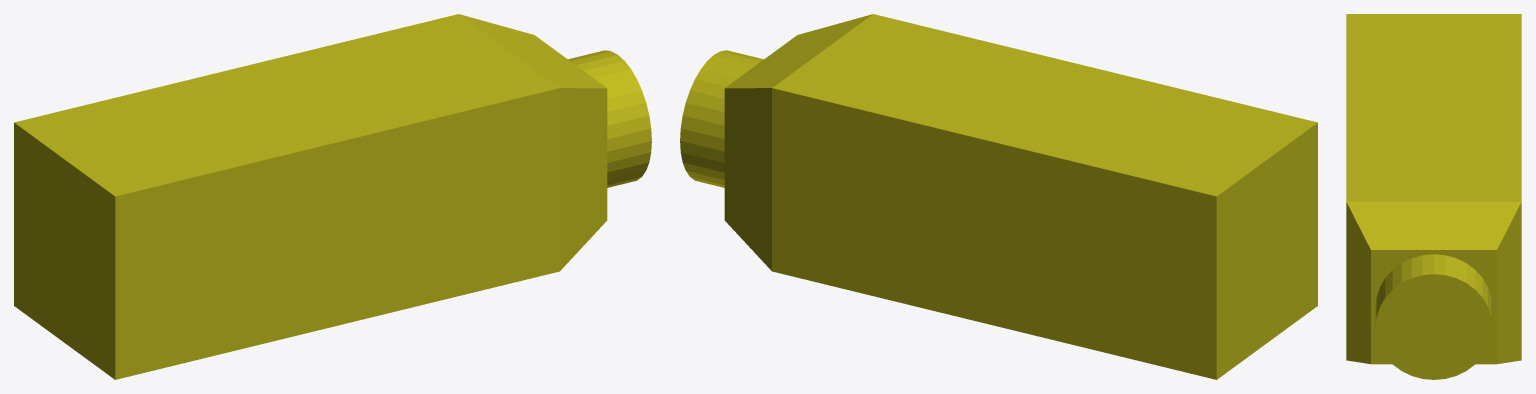
3 renders of one model, left to right at view 1: azimuth 30°, elevation 25°; view 2: azimuth 150°, elevation 25°; view 3: azimuth 270°, elevation 25°, orthographic. The views are drawn at different scales.
Parts seen in each view (by area): view 1: Cup Yellow; view 2: Cup Yellow; view 3: Cup Yellow.
Boxes of the visible parts, x1,y1,x2,y2 form: Cup Yellow: (14,14,651,379); Cup Yellow: (680,14,1317,379); Cup Yellow: (1346,14,1521,379).
Size of the model in its own units: 0.361 by 0.1143 by 0.1143.
